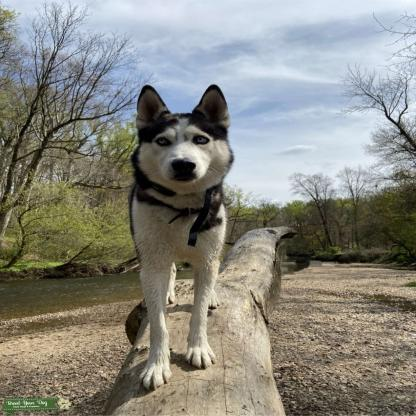dog: (117, 75, 247, 387)
